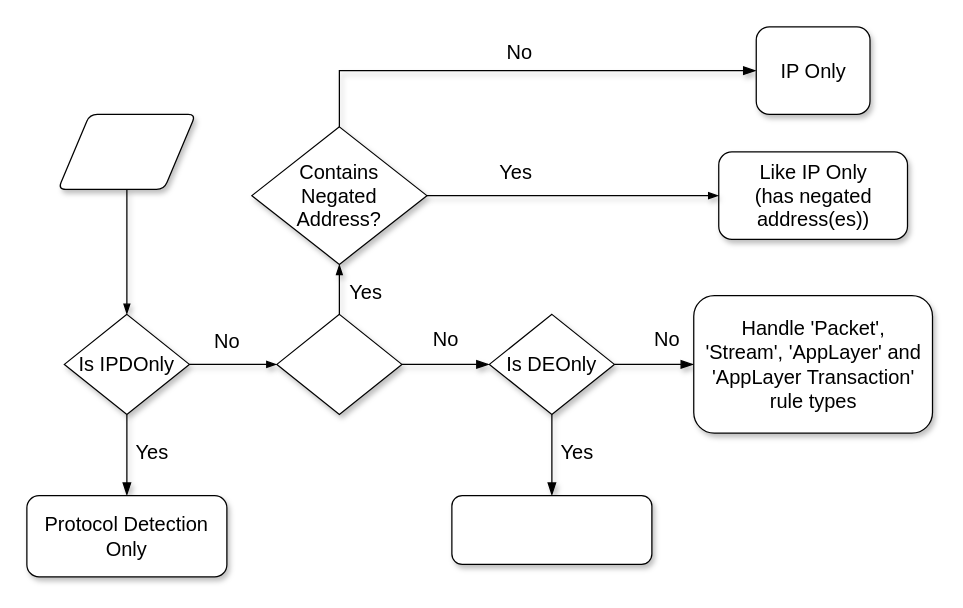
Image size: 963x608. Some labels were removed from this diagram. The shapes that lost their labels are listed below. From the top down, each one's centre as x and y in pixels, then its label:
(127,153): Signature
(340,365): Is IpOnly
(552,531): Decoder Events Only
